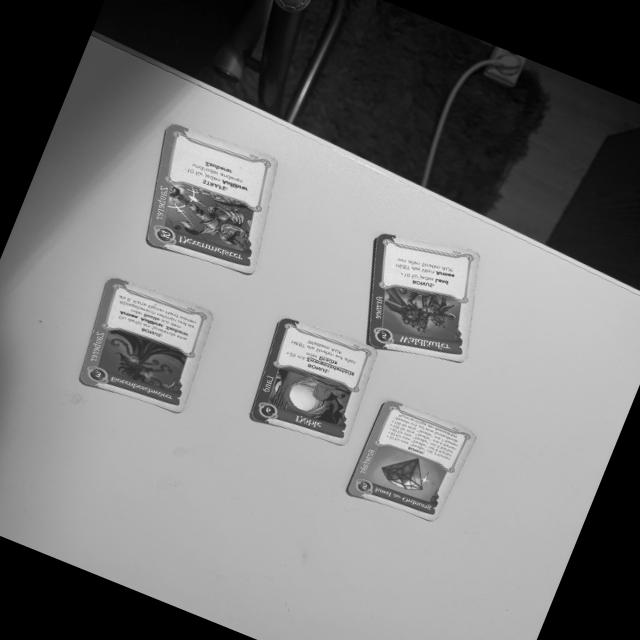Gem Of Order: (343, 398, 479, 526)
Necromancer: (78, 275, 212, 416)
Rangers: (367, 232, 480, 365)
Underground Caverns: (251, 316, 378, 449)
Warlock Lord: (142, 124, 276, 278)
